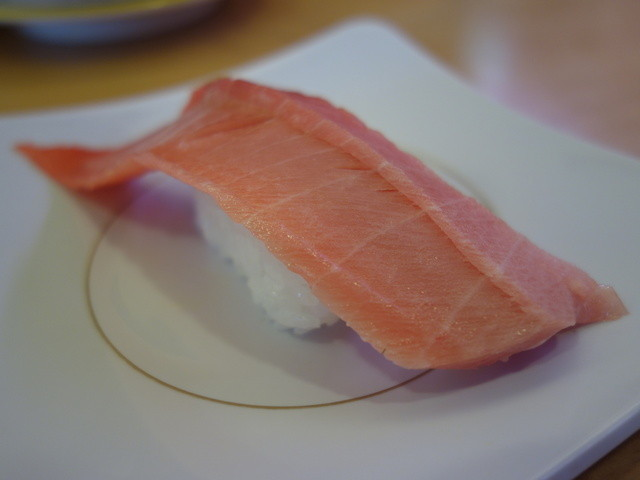medium_fatty_tuna: (32, 80, 627, 380)
